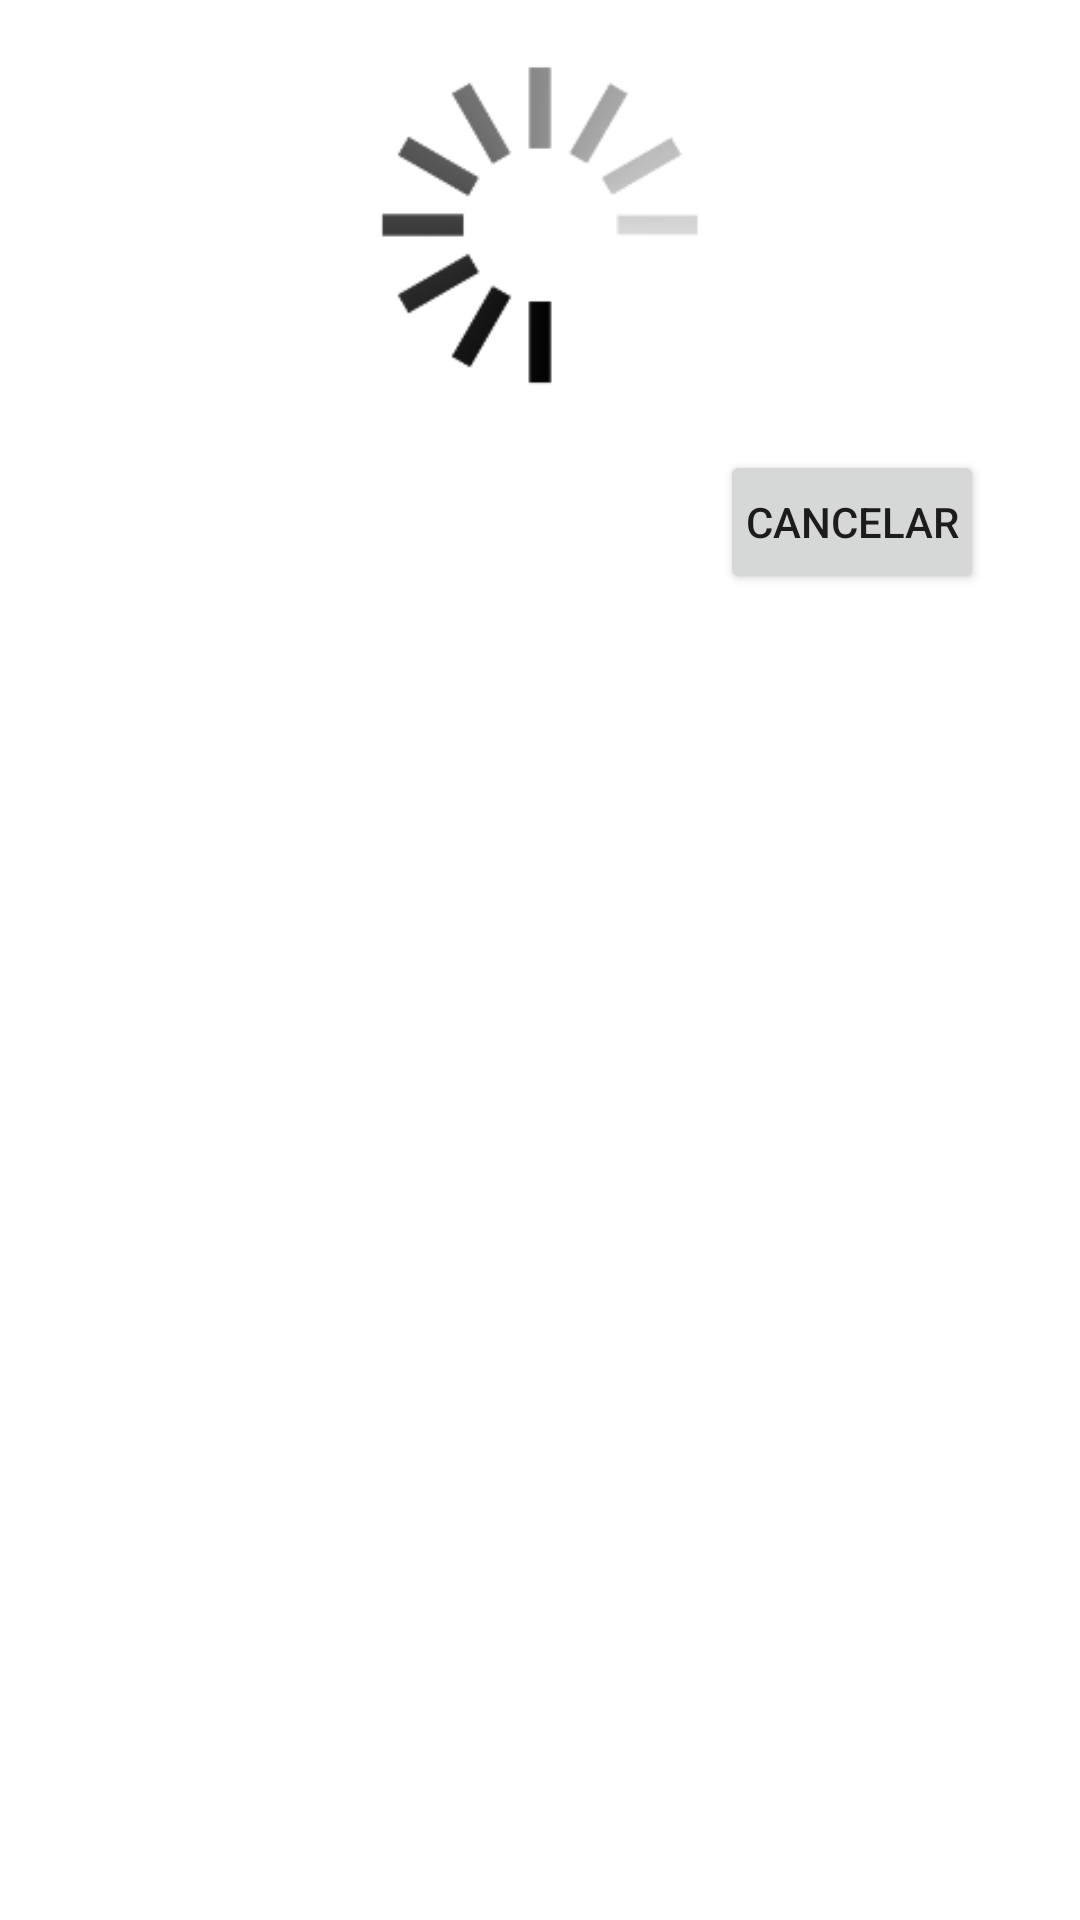

Where to tap for icons on this 1080 × 1920 app screen, as (x=x, y=y):
cargando: (x=539, y=225)
